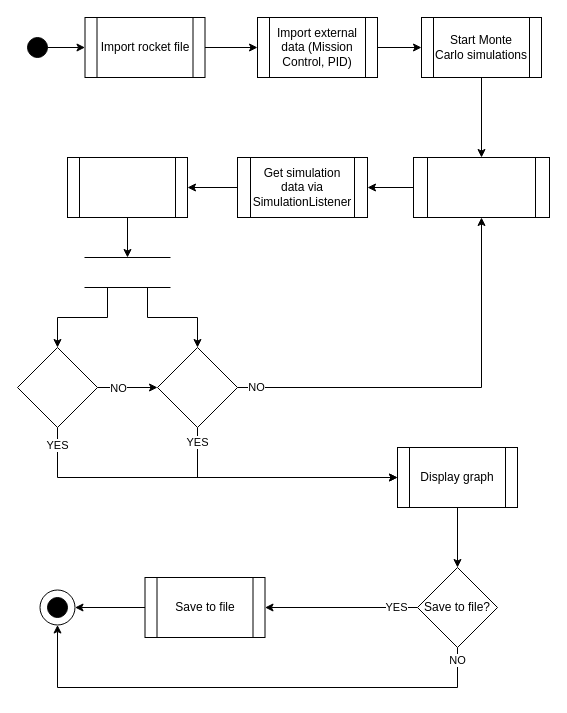
Image size: 567x713. Some labels were removed from this diagram. Here are the shapes that lost their labels. From the top down, the centre of each, then its label:
At pixel 127 187: "Add simulation to database".
At pixel 481 187: "Run simulation via SimulationListener".
At pixel 57 387: "Abort?".
At pixel 197 387: "Reached simulation target".
